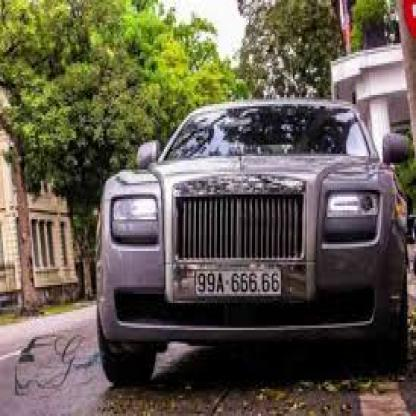biensoxe: (194, 267, 282, 299)
